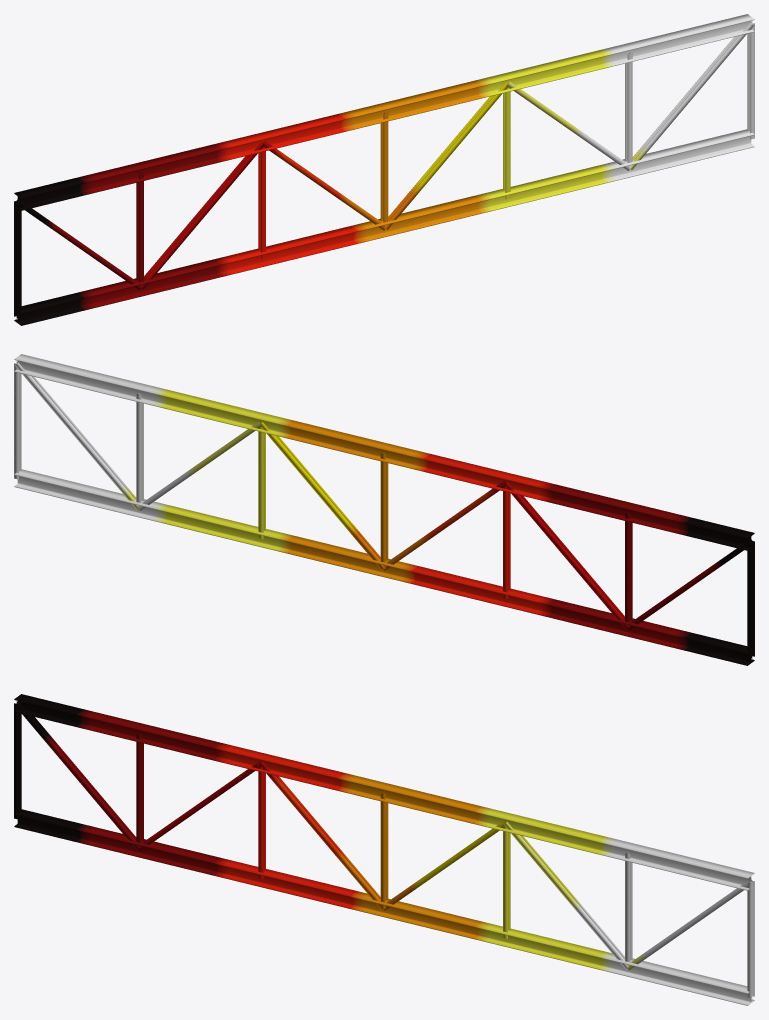
File: trussDeformedShape.fbx
3 renders of one model, top to bottom at view 1: azimuth 30°, elevation 25°; view 2: azimuth 150°, elevation 25°; view 3: azimuth 330°, elevation 25°, orthographic.
Parts seen in each view (by area): view 1: Object_1; view 2: Object_1; view 3: Object_1.
Part boxes in pixels (left/top/right/bottom): Object_1: left=14, top=14, right=754, bottom=325; Object_1: left=14, top=354, right=754, bottom=665; Object_1: left=14, top=694, right=754, bottom=1005.
Size of the model in its own units: 18.12 by 3 by 0.3.
